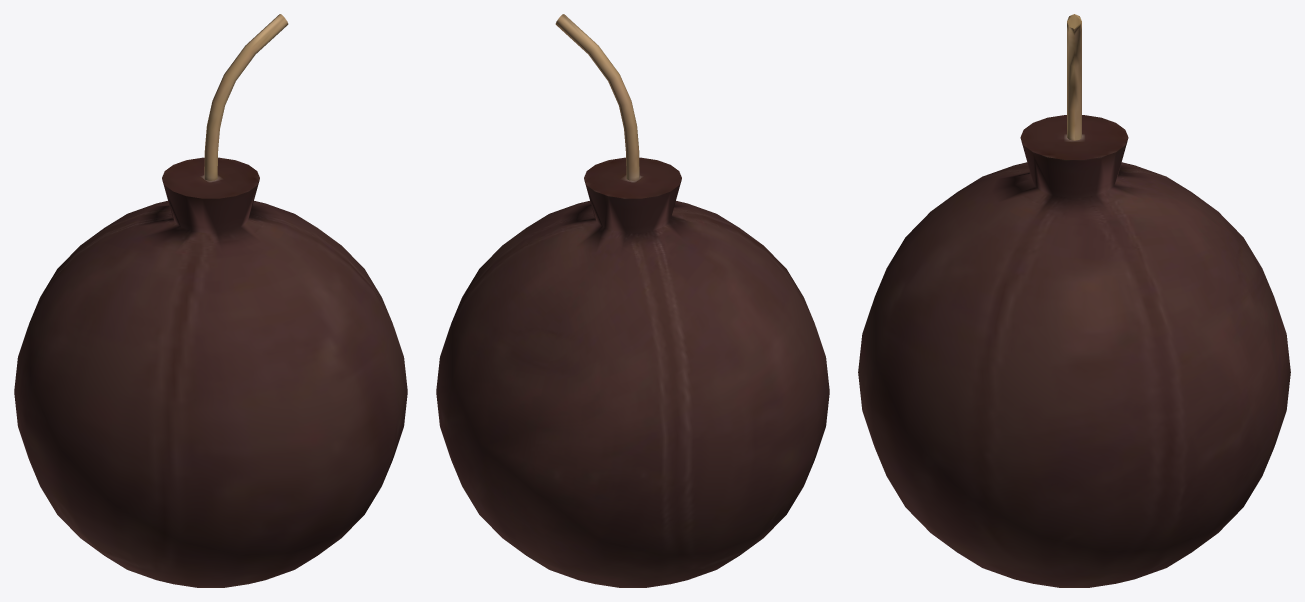
File: smokebomb.fbx
3 views of the same model, side by side, from view 1: azimuth 30°, elevation 25°; view 2: azimuth 150°, elevation 25°; view 3: azimuth 270°, elevation 25° (orthographic). The views are drawn at different scales.
Visible parts, largest first — view 1: smokebomb; view 2: smokebomb; view 3: smokebomb.
Part boxes in pixels (x1,y1,x2,y2): smokebomb: (14, 14, 407, 587); smokebomb: (436, 14, 829, 587); smokebomb: (858, 14, 1290, 587).
Size of the model in its own units: 28.18 by 43.2 by 28.61.
